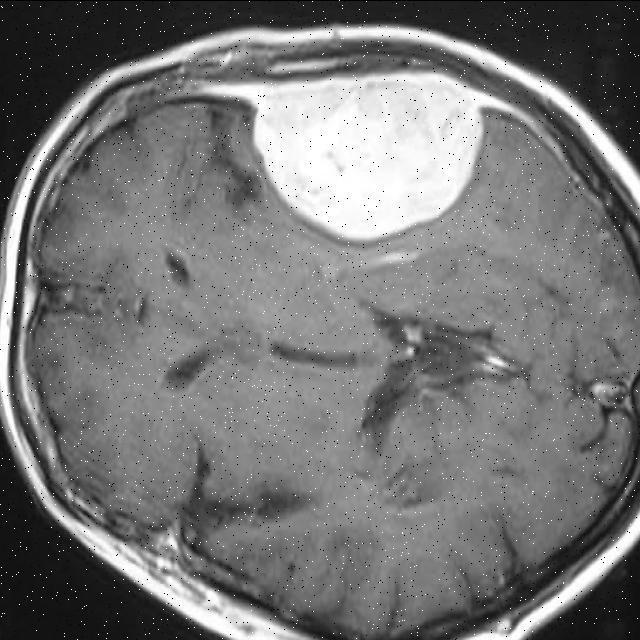Meningioma: (254, 78, 482, 238)
